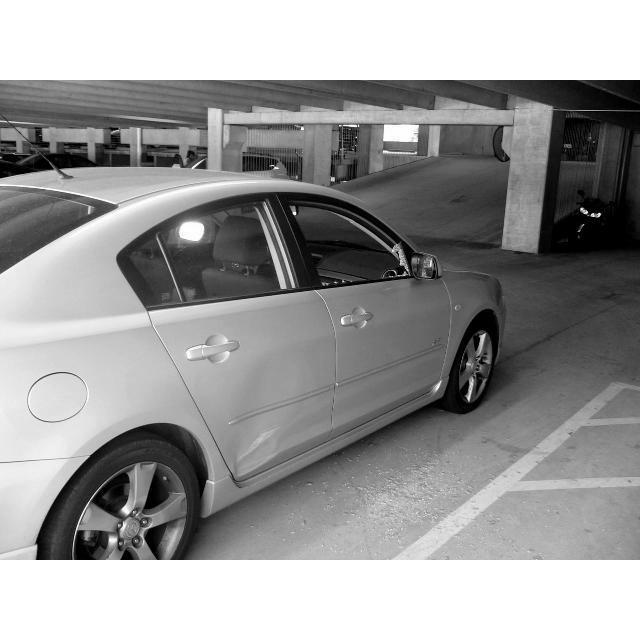doorouter-dent: (195, 326, 329, 487)
